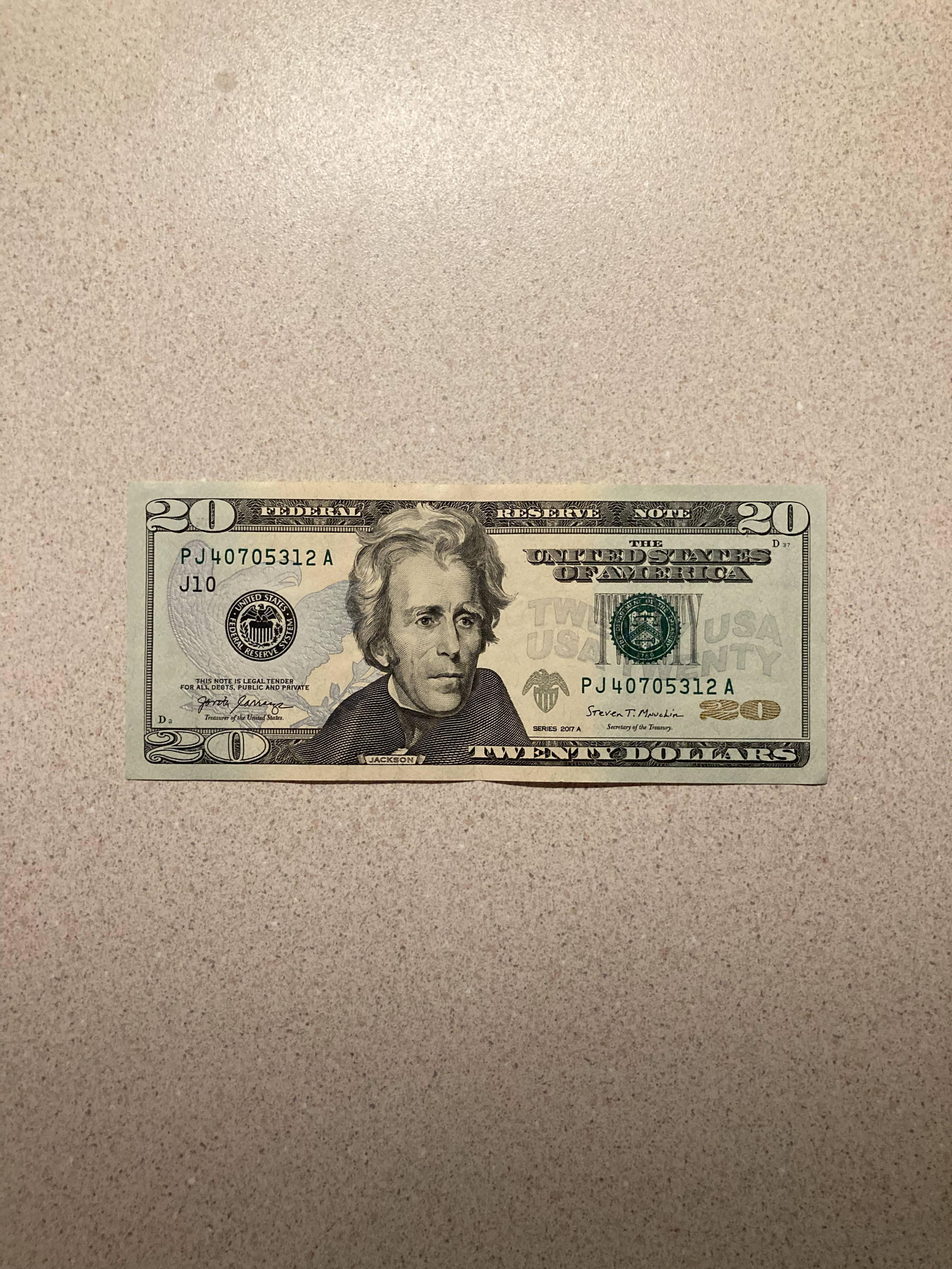twenty-front: (125, 484, 830, 787)
